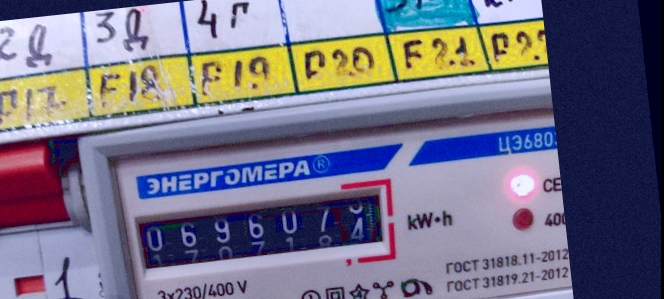0: (278, 204, 299, 236), (144, 223, 164, 252)
4: (346, 212, 366, 243)
6: (178, 218, 198, 248), (245, 209, 265, 239)
7: (312, 201, 334, 234)
9: (211, 214, 232, 244)
screen: (120, 173, 404, 287)
